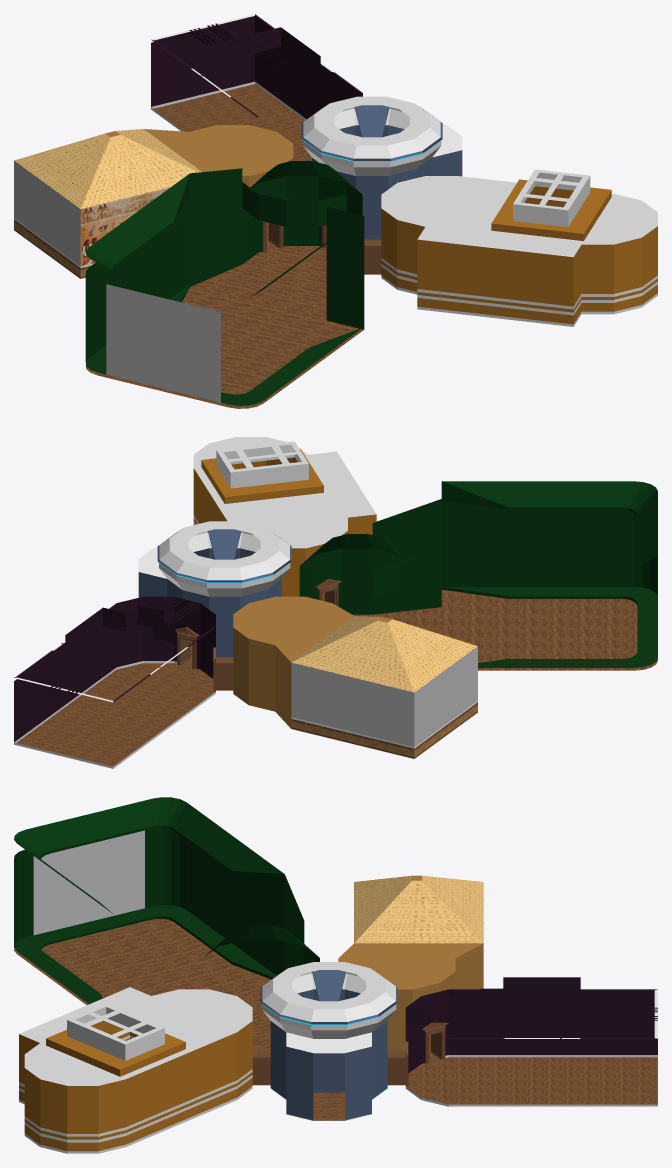
Rendered from ESTRUCTURA_FINAL_unity_textura.fbx.
The picture shows the model from 3 angles, top to bottom: view 1: azimuth 30°, elevation 25°; view 2: azimuth 150°, elevation 25°; view 3: azimuth 270°, elevation 25°; orthographic projection. The views are drawn at different scales.
Parts seen in each view (by area): view 1: Cylinder; view 2: Cylinder; view 3: Cylinder.
Boxes of the visible parts, x1=… form: Cylinder: x1=14, y1=14, x2=657, y2=408; Cylinder: x1=14, y1=437, x2=657, y2=768; Cylinder: x1=14, y1=797, x2=657, y2=1153.
Bounding box in the file's own units: 960 × 202 × 1063.
